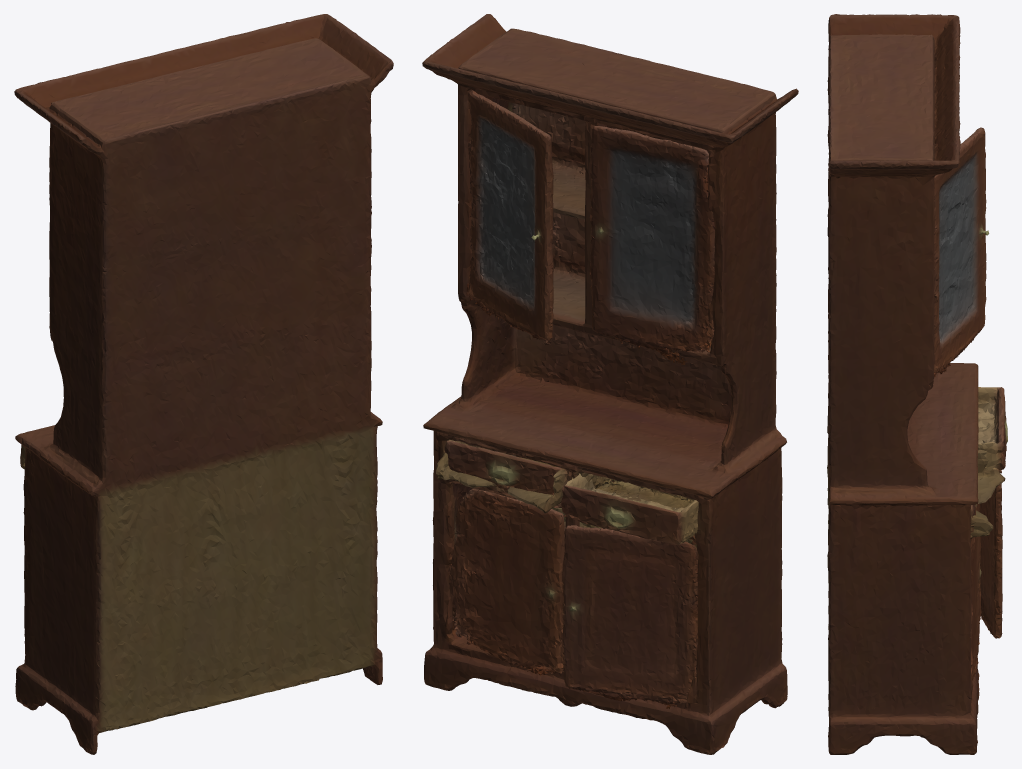
File: storage_47648.glb
3 renders of one model, left to right at view 1: azimuth 30°, elevation 25°; view 2: azimuth 150°, elevation 25°; view 3: azimuth 270°, elevation 25°, orthographic. The views are drawn at different scales.
Visible parts, largest first — view 1: storage_47648_start_0; view 2: storage_47648_start_0, storage_47648_start_4, storage_47648_start_5, storage_47648_start_6, storage_47648_start_3, storage_47648_start_1, storage_47648_start_2; view 3: storage_47648_start_0, storage_47648_start_6, storage_47648_start_5, storage_47648_start_1, storage_47648_start_3.
Part boxes in pixels (x1=…): storage_47648_start_0: x1=14, y1=14, x2=393, y2=754; storage_47648_start_0: x1=422, y1=14, x2=798, y2=754; storage_47648_start_4: x1=589, y1=126, x2=714, y2=364; storage_47648_start_5: x1=562, y1=525, x2=698, y2=708; storage_47648_start_6: x1=466, y1=89, x2=553, y2=343; storage_47648_start_3: x1=447, y1=488, x2=564, y2=675; storage_47648_start_1: x1=561, y1=473, x2=698, y2=544; storage_47648_start_2: x1=444, y1=439, x2=560, y2=494; storage_47648_start_0: x1=827, y1=14, x2=1005, y2=754; storage_47648_start_6: x1=934, y1=127, x2=989, y2=377; storage_47648_start_5: x1=979, y1=483, x2=1002, y2=638; storage_47648_start_1: x1=978, y1=387, x2=1007, y2=473; storage_47648_start_3: x1=970, y1=504, x2=981, y2=680.
Bounding box in the file's own units: 0.9206 × 1.73 × 0.4725.
